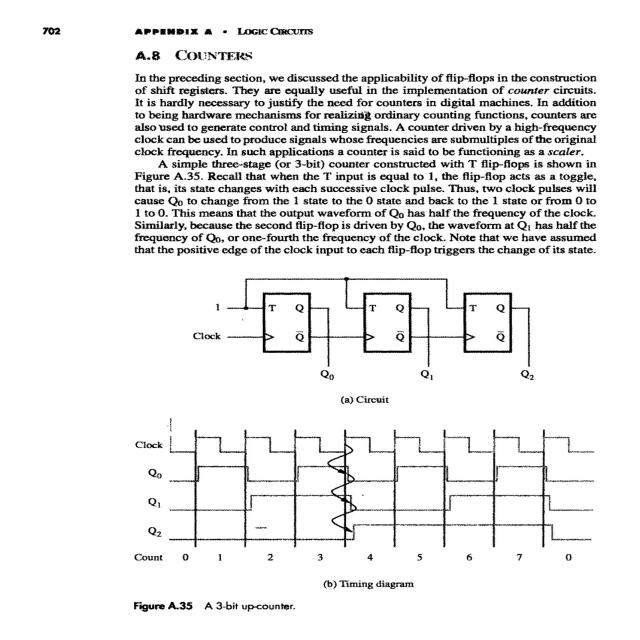diagram: (89, 266, 620, 632)
